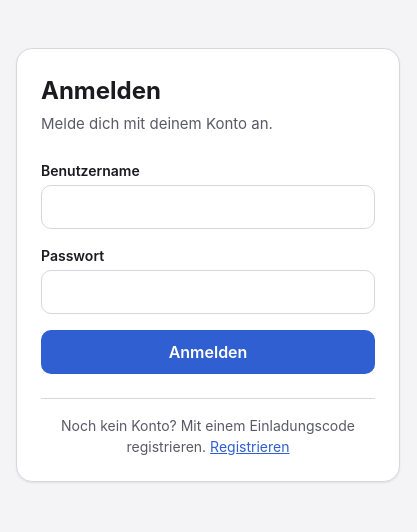
Test: LoginPage › names a wrong password instead of talking about an expired session
Type "anna" into the field labelled "Benutzername" at (208,207), box [41, 185, 375, 229]
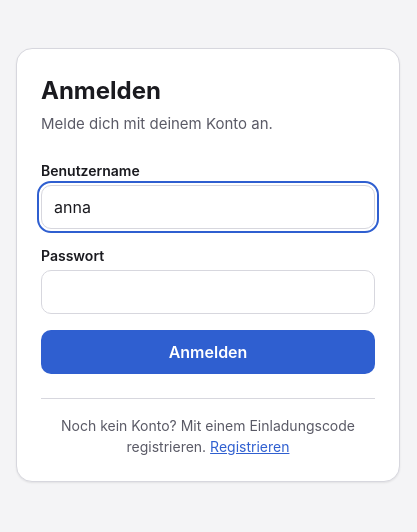
Type "falsch" into the password field labelled "Passwort" at (208,292), box [41, 270, 375, 314]
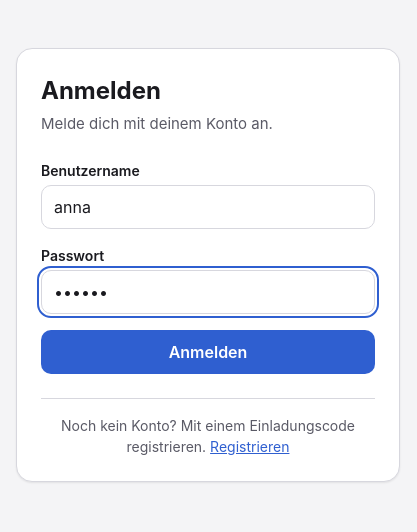
Click the button "Anmelden" at (208,352), box [41, 330, 375, 374]
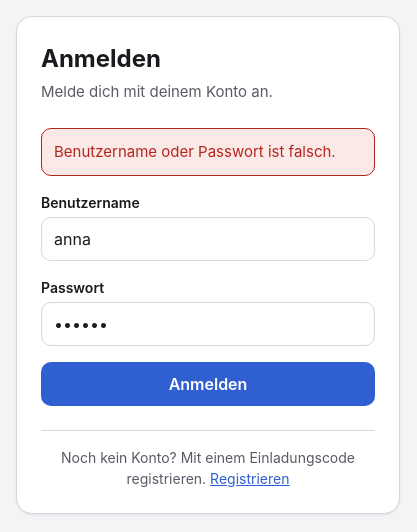
Result: the message reads "Benutzername oder Passwort ist falsch." at [54, 142, 336, 160]
